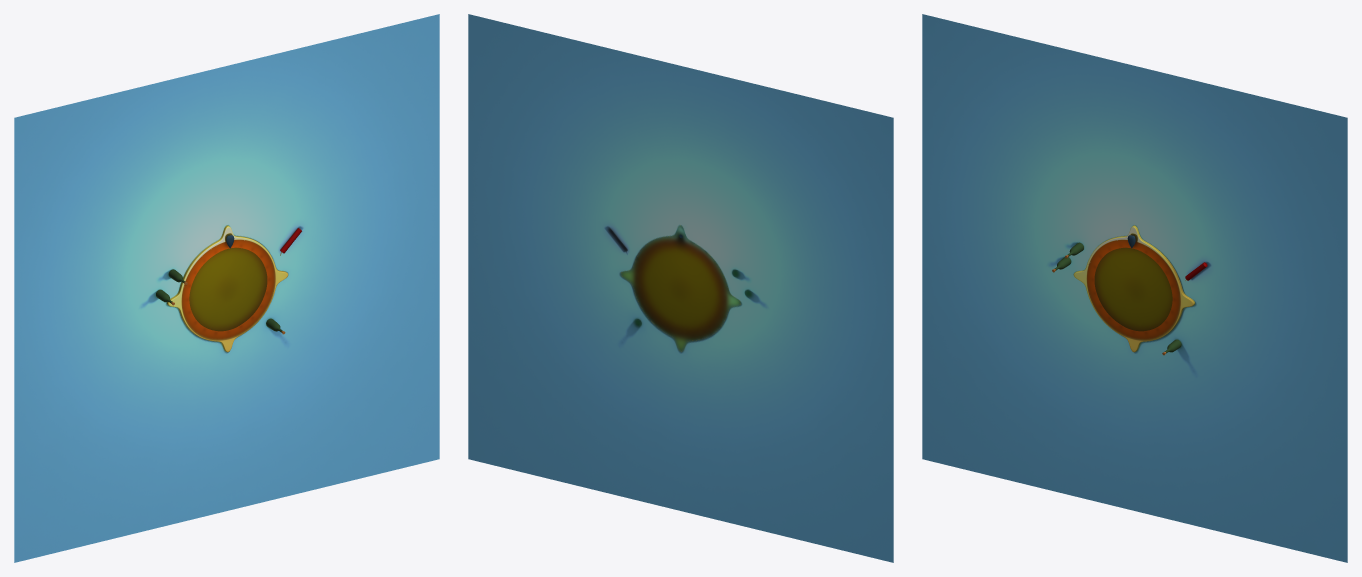
File: staticObjects.obj
3 views of the same model, side by side, from view 1: azimuth 30°, elevation 25°; view 2: azimuth 150°, elevation 25°; view 3: azimuth 330°, elevation 25° (orthographic).
Visible parts, largest first — view 1: Bord, LotteriSkive_Feste; view 2: Bord; view 3: Bord, LotteriSkive_Feste.
Part boxes in pixels (box(x1,y1,x2,y2)): Bord: box(14, 14, 439, 562); LotteriSkive_Feste: box(167, 225, 288, 352); Bord: box(468, 14, 893, 562); Bord: box(922, 14, 1347, 562); LotteriSkive_Feste: box(1073, 225, 1194, 352).
Bounding box in the file's own units: 10 × 10 × 0.5745.
Materials: 7 (2 with a texture image).
